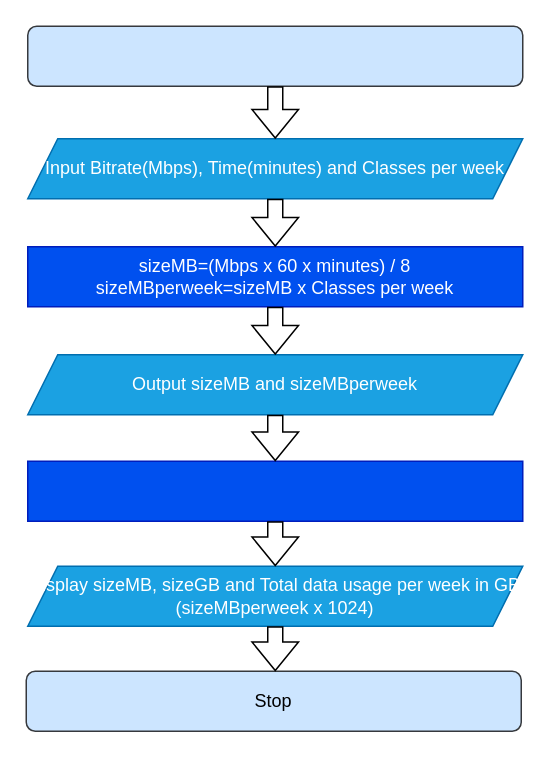
Some shapes in this 549 by 758 pixel diagram are drawn without their labels. The shapes that lost their labels are listed below. From the top down, each one's box as (x1, y1, x2, y2) in pixels, then its label:
(26, 25, 523, 86): Start
(26, 460, 523, 521): Convert sizeMB to sizeGB
